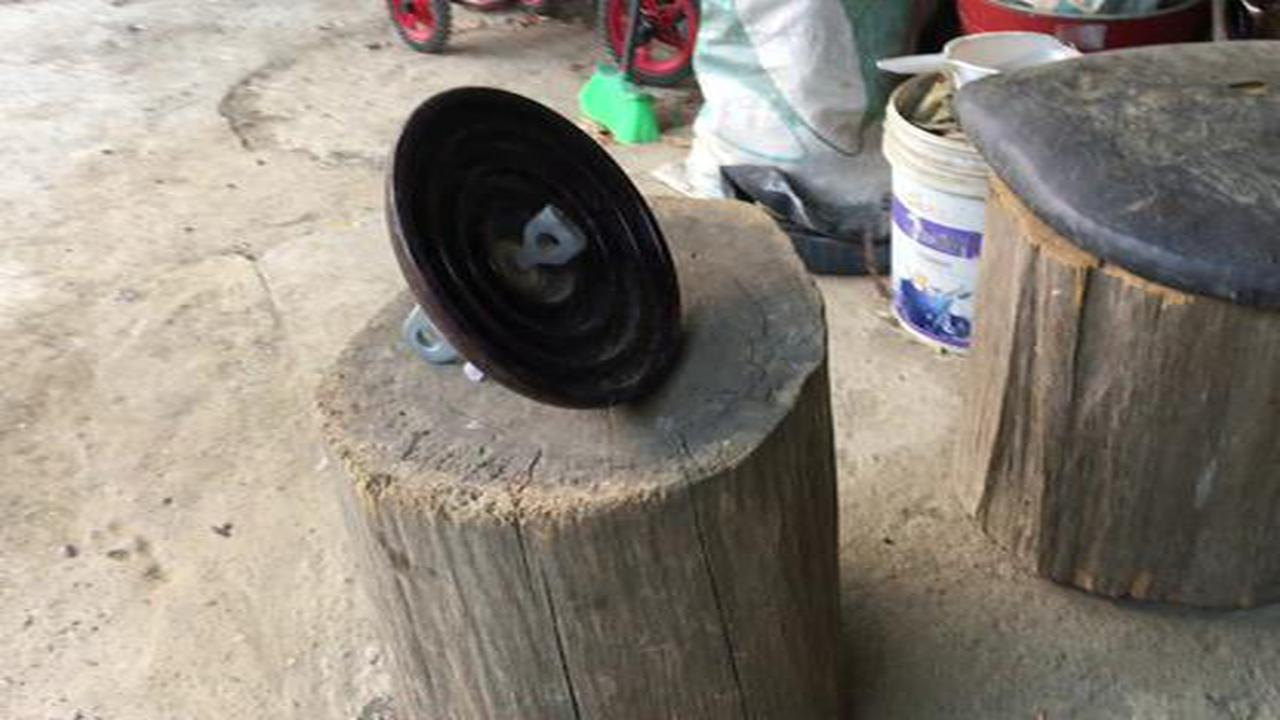insulator_disc: (378, 82, 692, 420)
